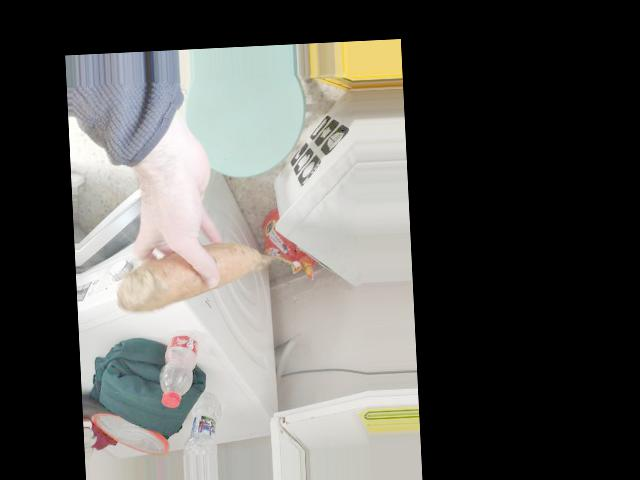sweet_potato: (116, 250, 278, 304)
